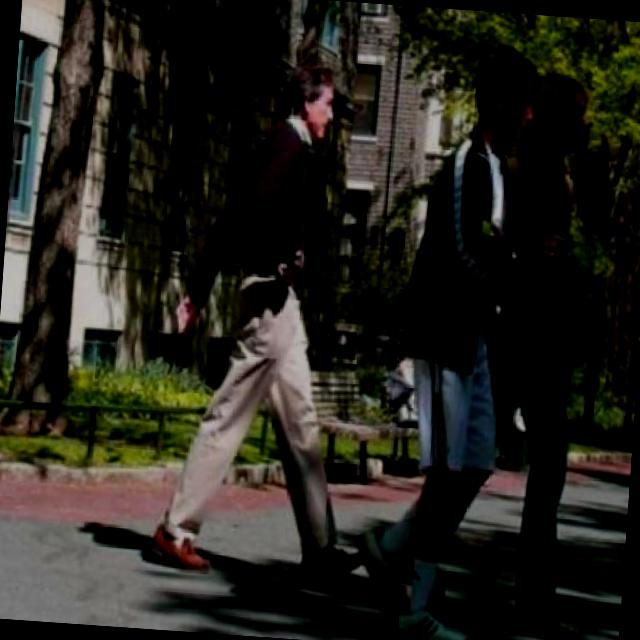Person: (142, 47, 393, 594), (344, 31, 549, 640), (489, 65, 623, 640)
